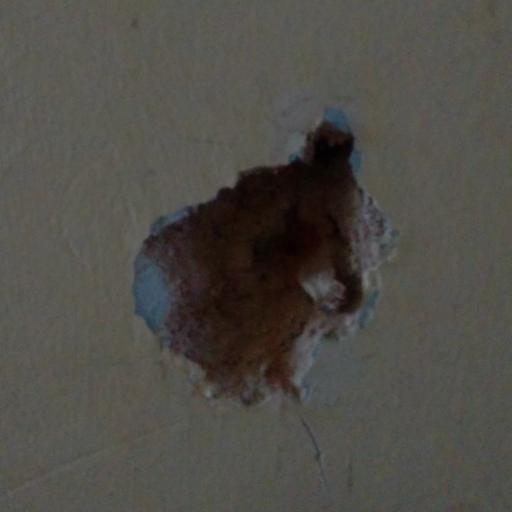spalling: (119, 94, 410, 432)
